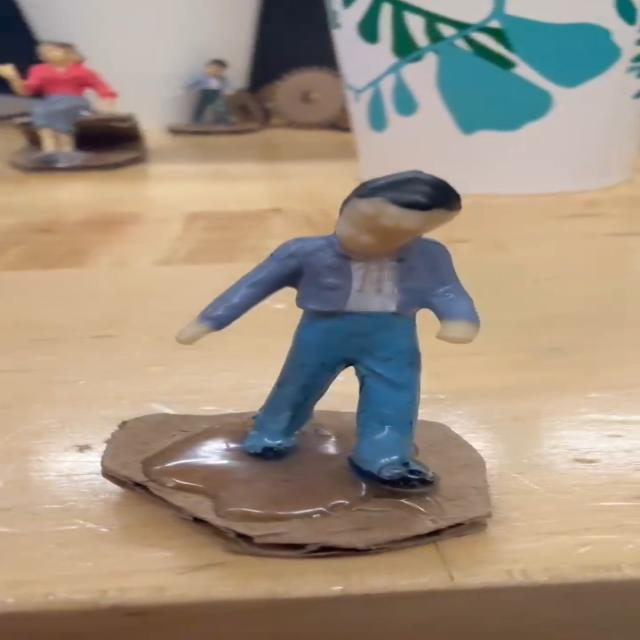Authorized: (185, 161, 471, 508)
